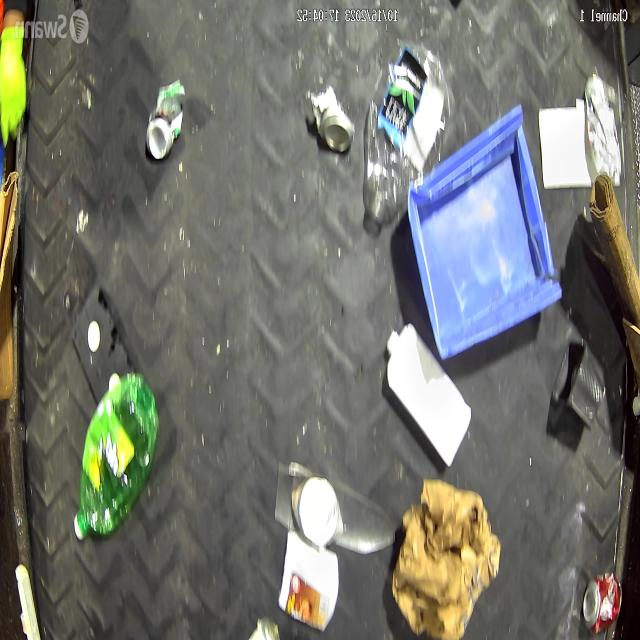can: (304, 88, 356, 166), (578, 553, 625, 627), (144, 85, 181, 159)
milk_jug: (380, 322, 470, 460)
plastic_bottle: (363, 40, 457, 228), (74, 368, 158, 542)
